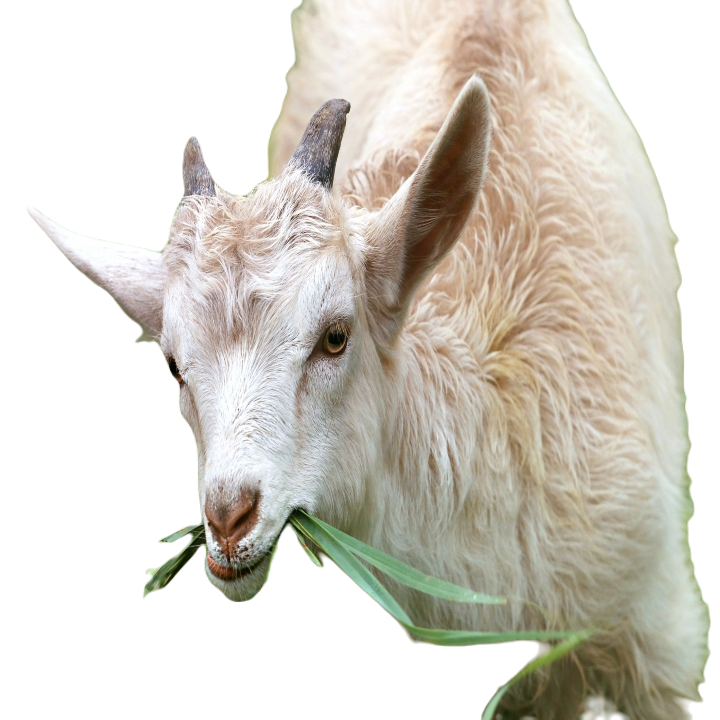Goat: (26, 0, 710, 719)
